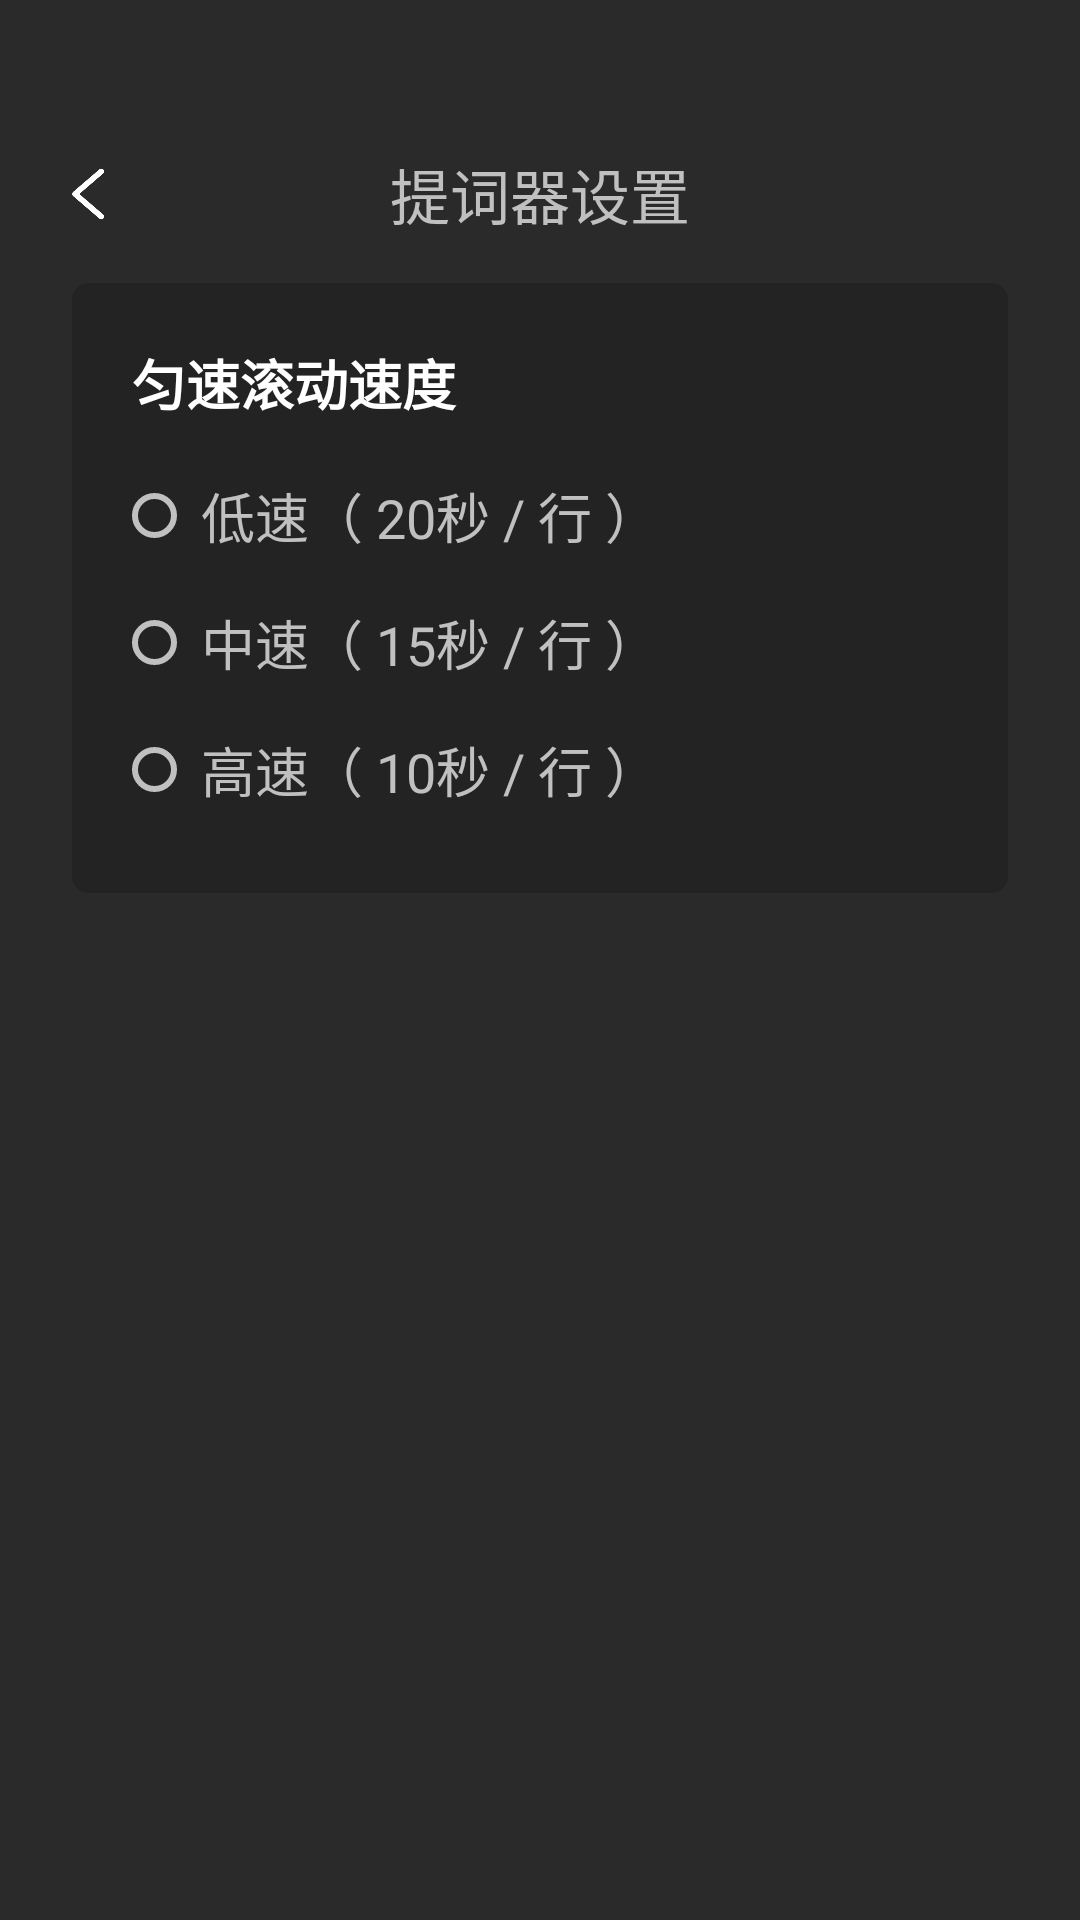

Point at icon controls on the screen. Image size 1080 x 1920, points as (x=x, y=y).
left: (x=88, y=194)
